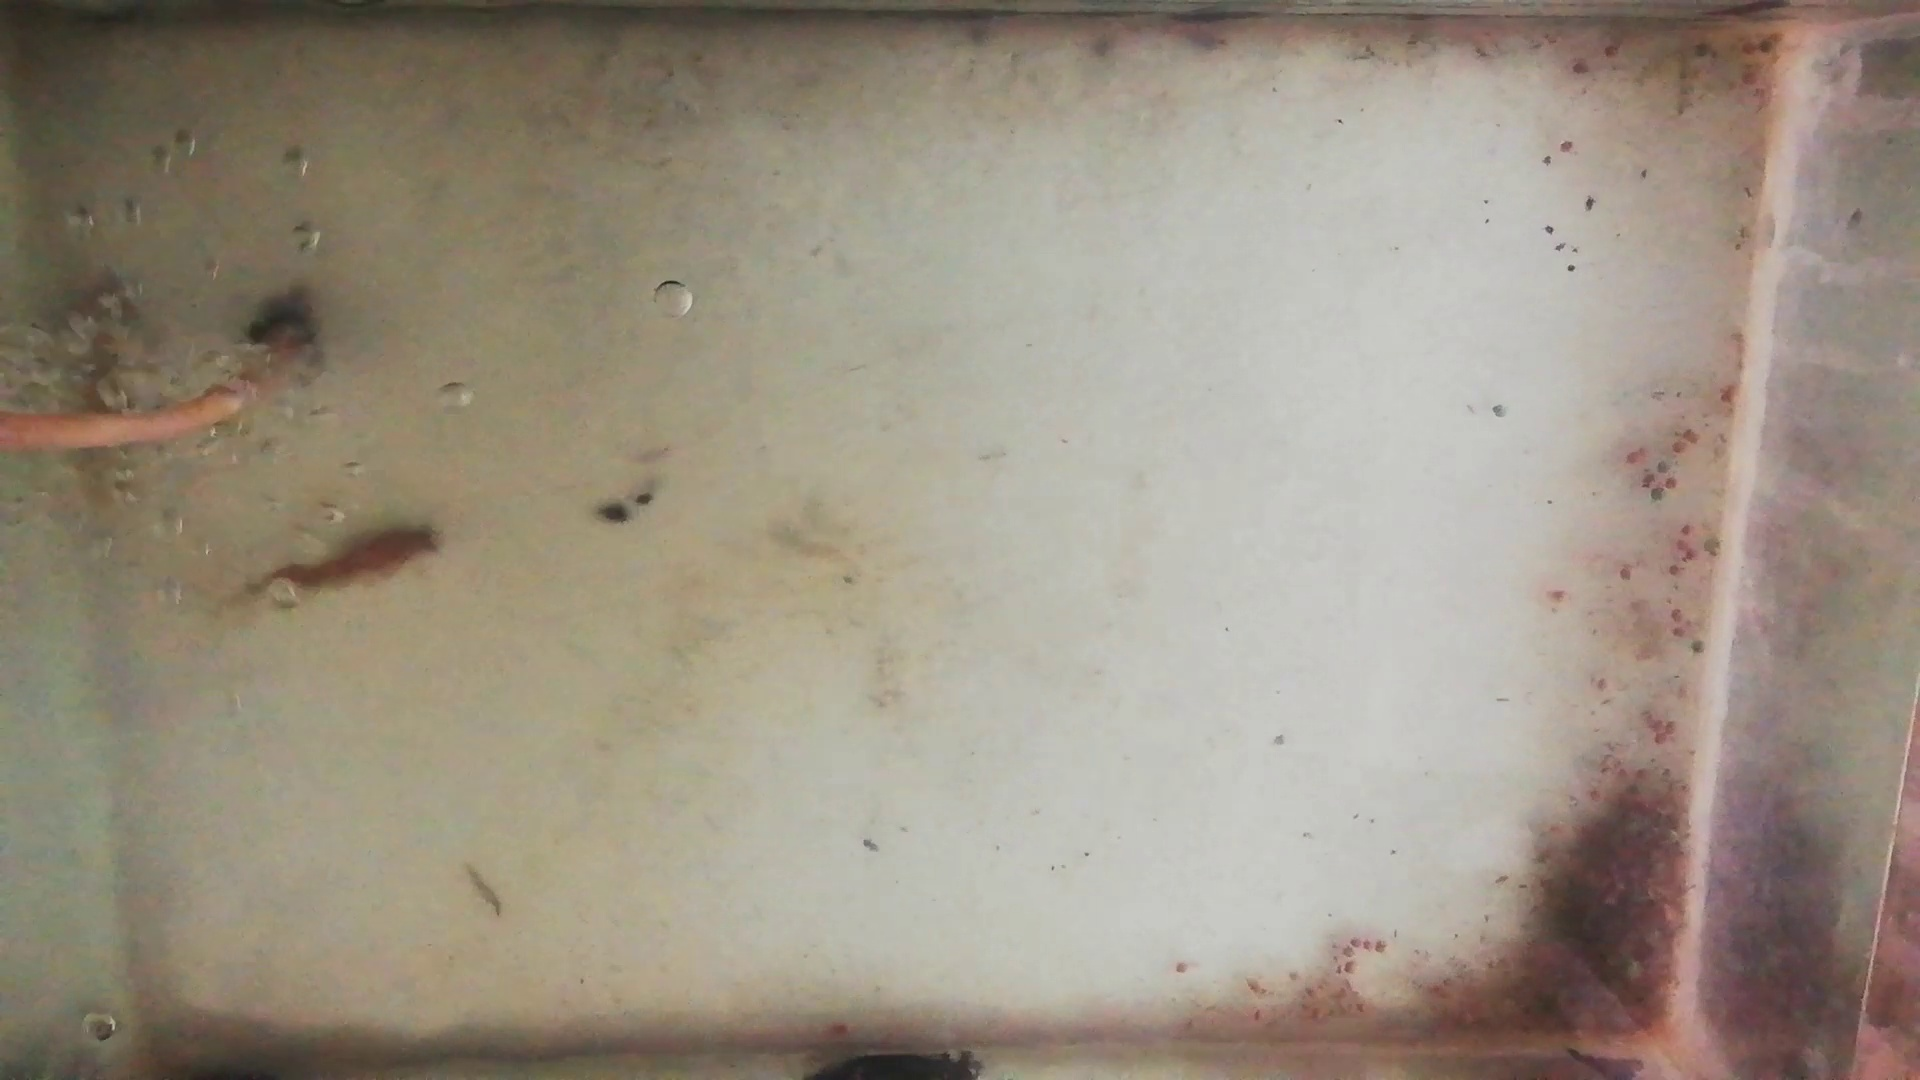fish: (232, 526, 434, 611), (73, 280, 132, 488)
